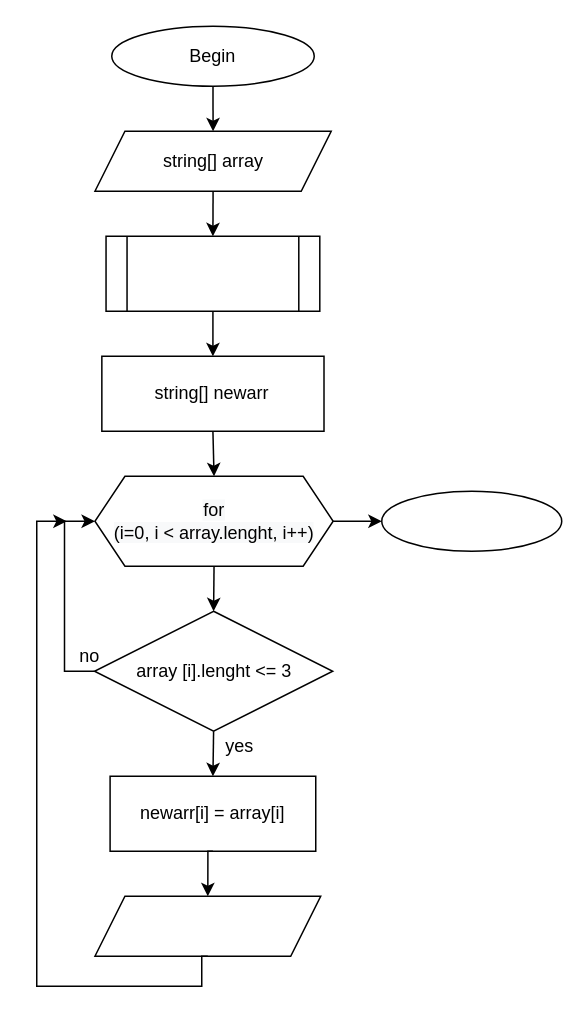
The diagram is 588 pixels wide and 1025 high, and some of its shapes have lost their labels. The shapes that lost their labels are listed below. From the top down, each one's centre as x and y in pixels, then its label:
At (212,273): "method threeCharArray".
At (471,520): "End".
At (207,925): "Print newarr[i]".
